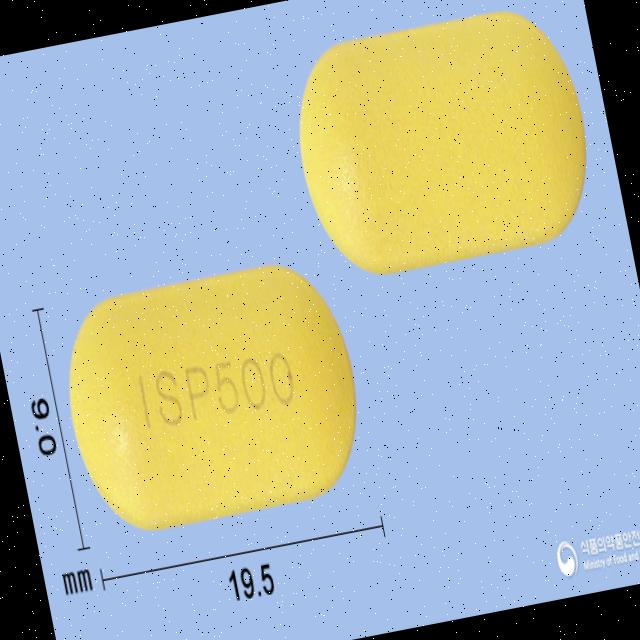Ilsung Clarithromycin: (49, 250, 377, 540)
